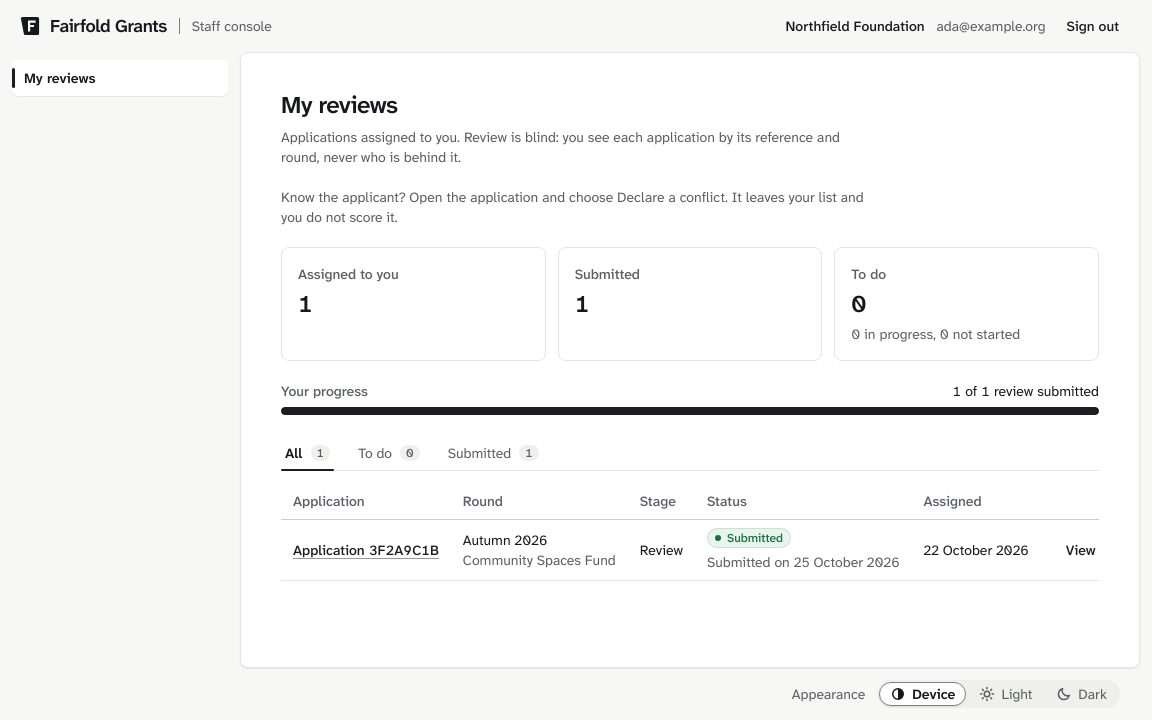
my reviews › shows what is still to do, and says so when nothing is
Check: the table named "Reviews assigned to you" is shown, box x1=281 y1=483 x2=1099 y2=581
Click the button "To do 0". click: (389, 453)
box: x1=354 y1=435 x2=424 y2=471
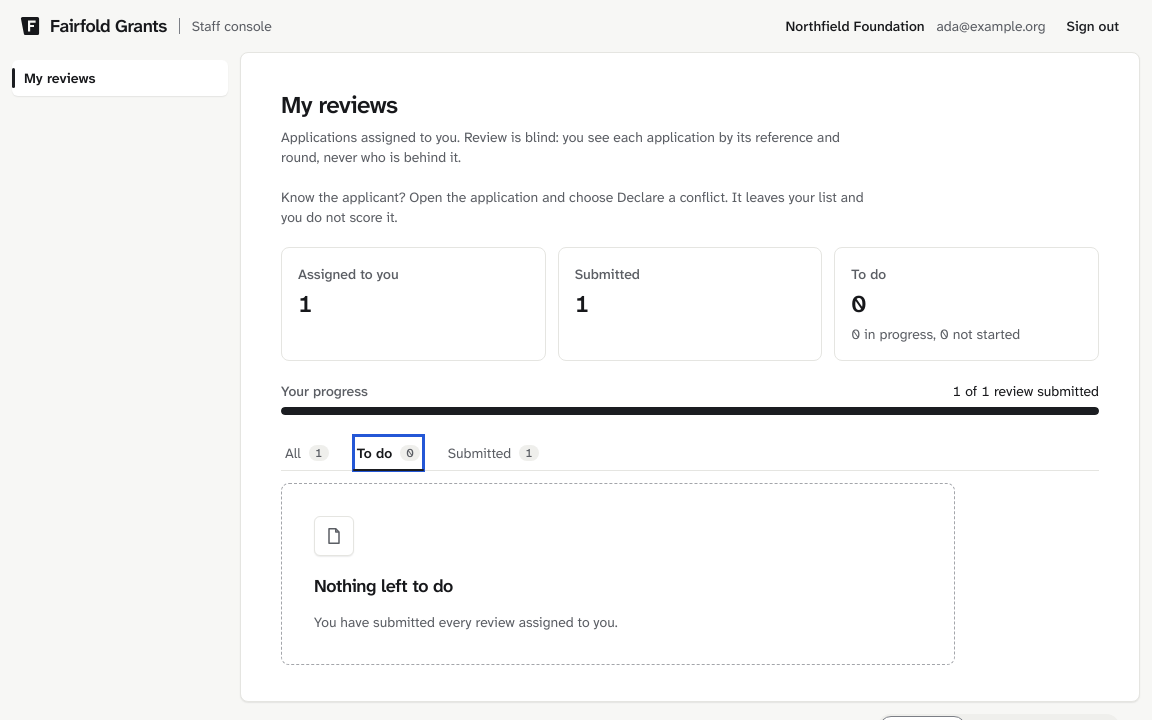
Check: the heading "Nothing left to do" is shown, box x1=314 y1=572 x2=453 y2=600
Check: the text "You have submitted every review assigned to you." is shown, box x1=314 y1=612 x2=618 y2=632
